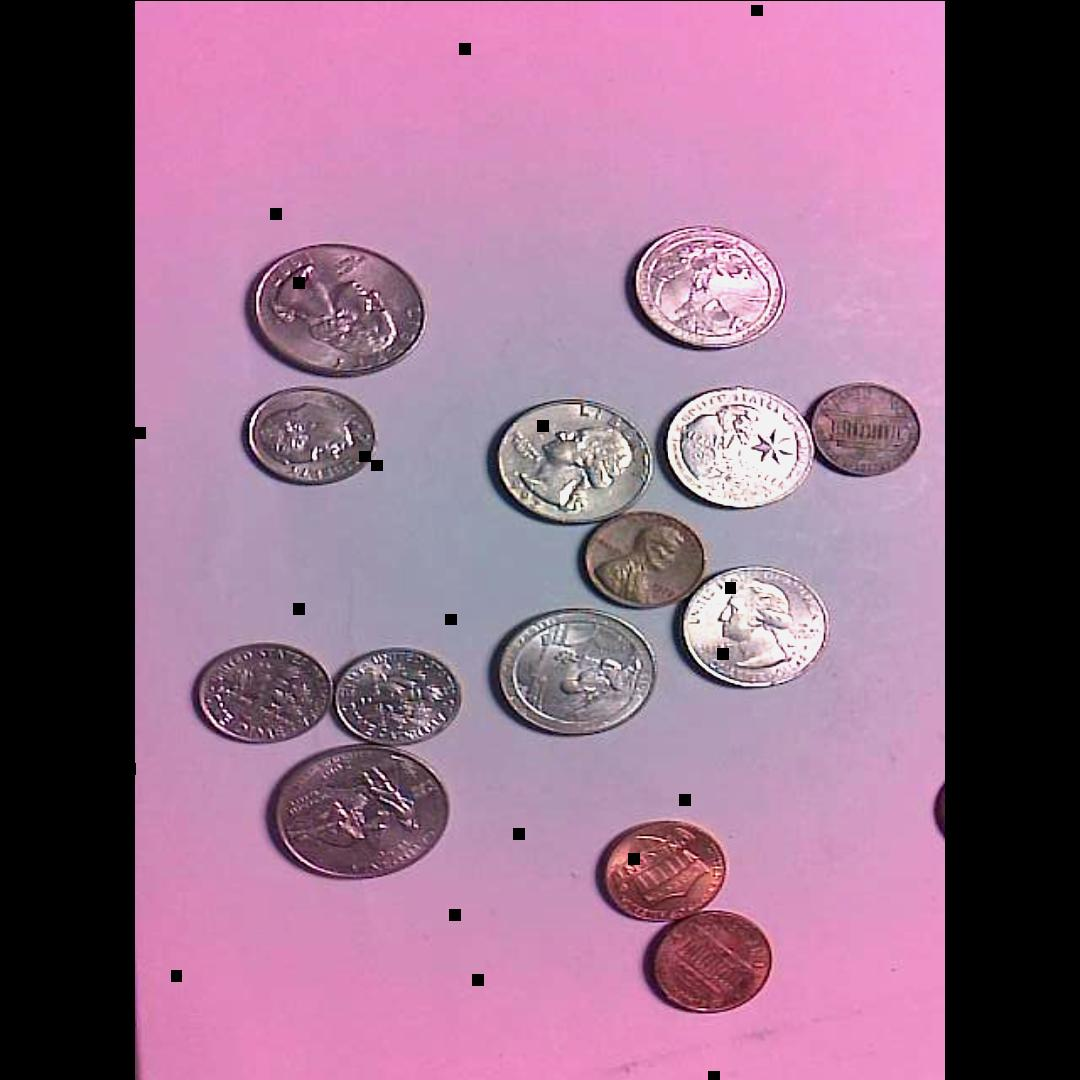Dime: (192, 641, 339, 746), (241, 383, 378, 486), (334, 645, 466, 746)
Penny: (643, 906, 778, 1018), (596, 818, 731, 925), (579, 510, 710, 609), (810, 380, 925, 479)
Quarter: (265, 742, 452, 883), (245, 240, 429, 380), (491, 606, 658, 739), (624, 221, 790, 349), (488, 398, 653, 525), (662, 385, 820, 510), (677, 564, 830, 688)
